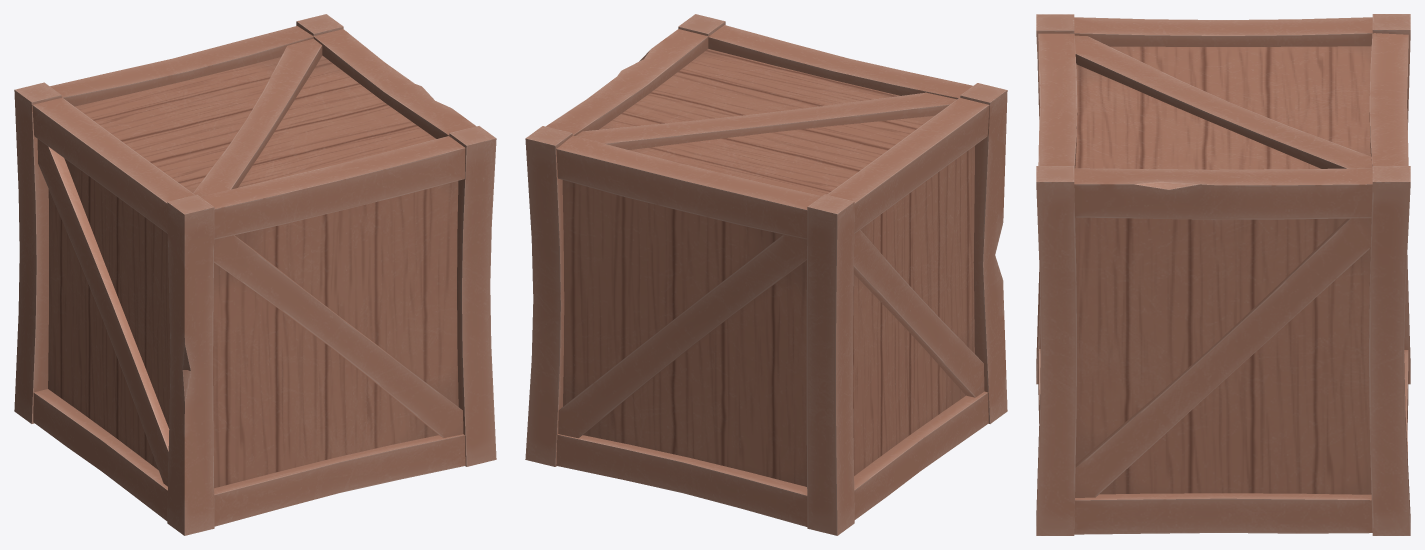
The picture shows the model from 3 angles, left to right: view 1: azimuth 30°, elevation 25°; view 2: azimuth 150°, elevation 25°; view 3: azimuth 270°, elevation 25°; orthographic projection. The views are drawn at different scales.
Parts seen in each view (by area): view 1: Box_1; view 2: Box_1; view 3: Box_1.
Boxes of the visible parts, x1=… form: Box_1: x1=14, y1=14, x2=496, y2=535; Box_1: x1=525, y1=14, x2=1007, y2=535; Box_1: x1=1036, y1=14, x2=1410, y2=535.
Size of the model in its own units: 104 by 102 by 97.79.
Materials: 1 (1 with a texture image).
